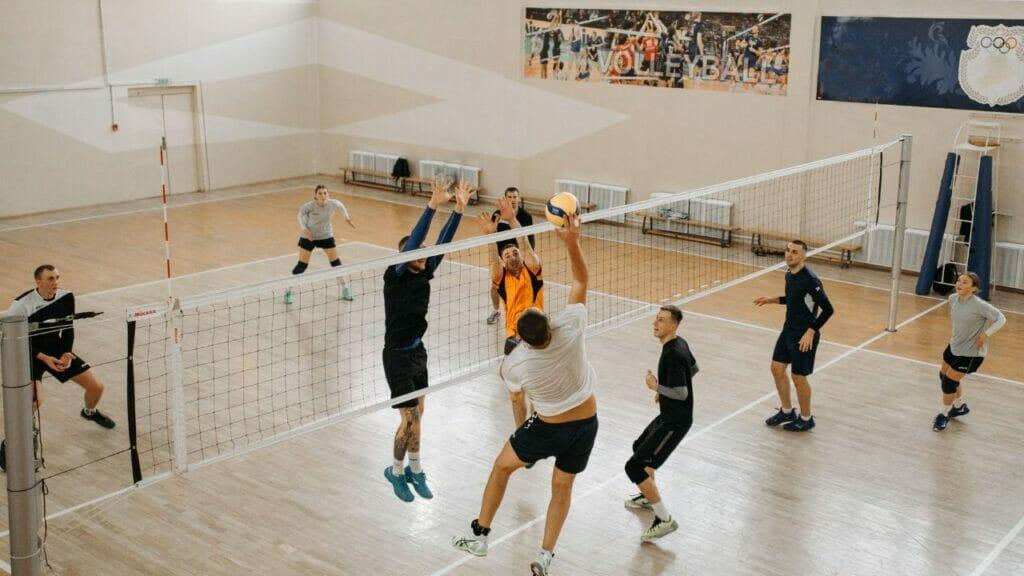ballon_volley: (546, 191, 580, 228)
